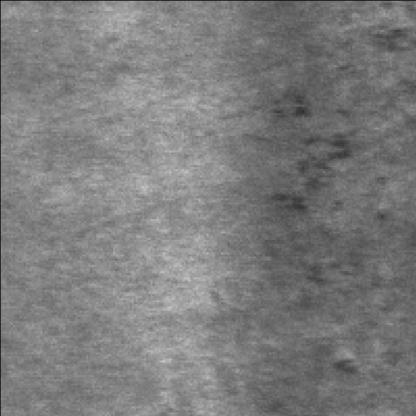rolled-in_scale: (254, 79, 347, 281)
